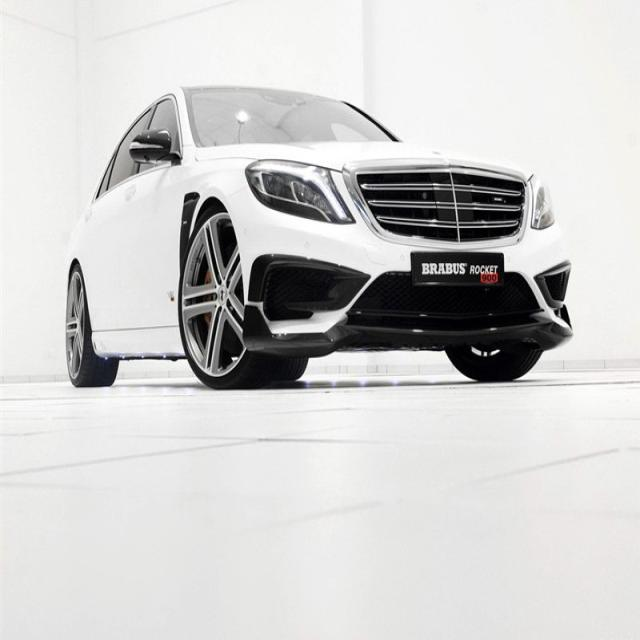front_bumper: (240, 226, 574, 358)
front_glass: (183, 90, 402, 150)
front_left_side_light: (528, 170, 554, 228)
front_right_side_door: (118, 93, 186, 340)
front_right_side_light: (244, 157, 354, 226)
front_right_side_mirror: (129, 125, 179, 165)
wheel: (176, 205, 269, 382), (68, 271, 111, 379)
